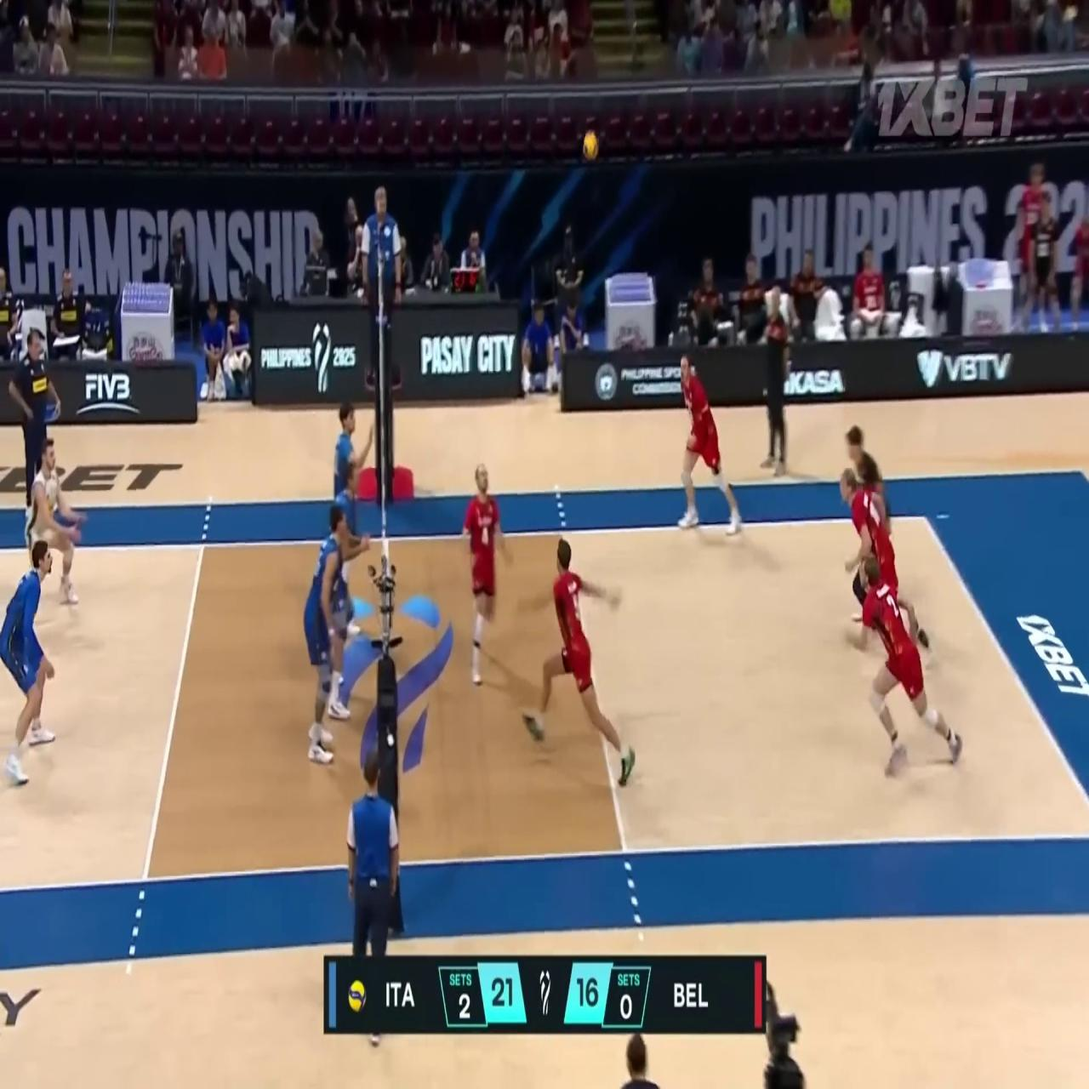ball: (582, 130, 599, 160)
